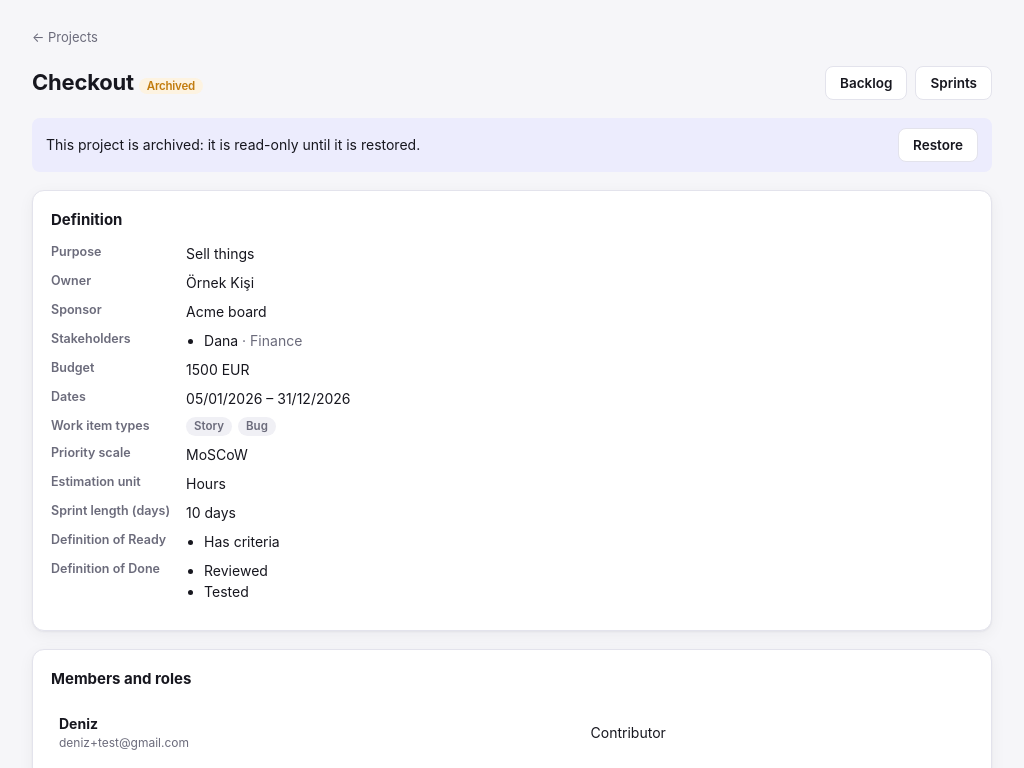
Test: the project page: definition and status › shows an archived project read-only, with Restore for those who may
Expected: the text "This project is archived: it is read-only until it is restored." is shown, [46,134,420,155]
Expected: the button "Edit" is not shown
Step 1. Click the button "Restore" → (938, 144), box [898,128,978,162]
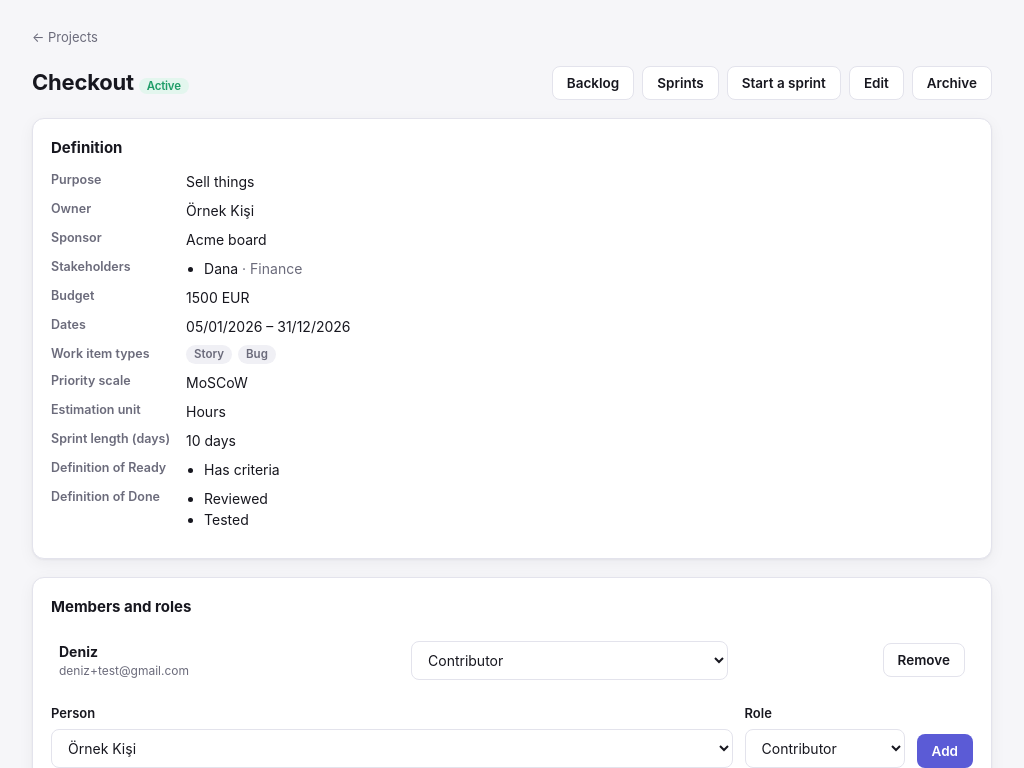
Result: the button "Edit" is shown at [849,66,904,100]
